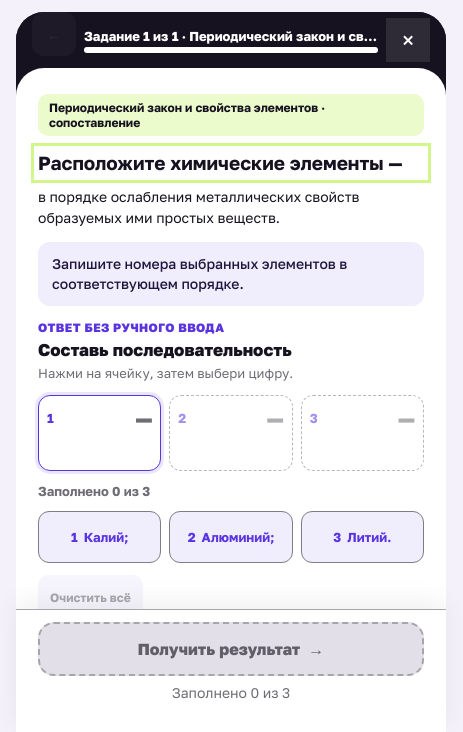
Test: contract-4 sequence question › renders and fills real chemistry q03 ordering cells
What coordinates should you click on to do the following:
click the radio button labelled "1 Калий;"
I would click on:
 (100, 537)
Its box is [38,511,161,563].
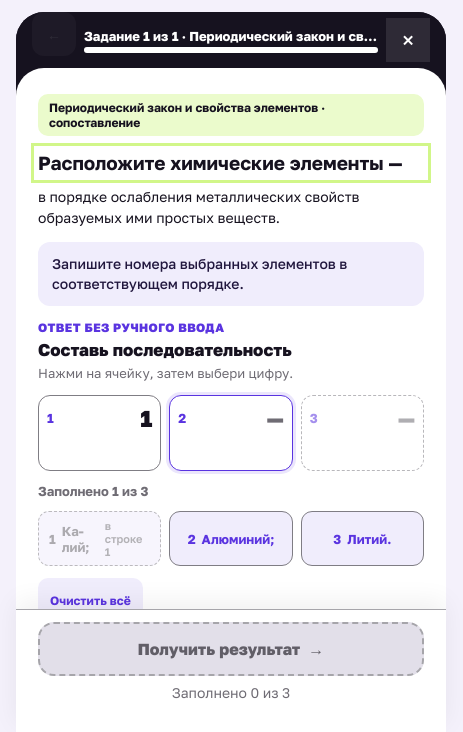
Result: the text "Заполнено 1 из 3" is shown at [38,483,148,499]
